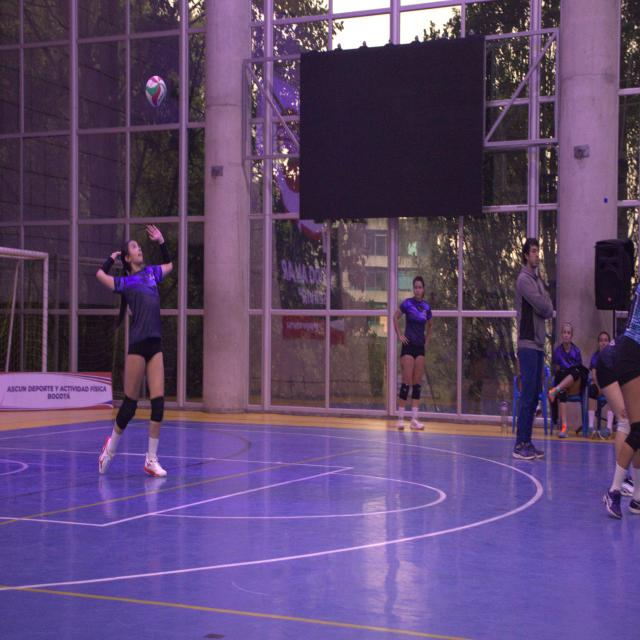volleyball: (145, 76, 165, 109)
